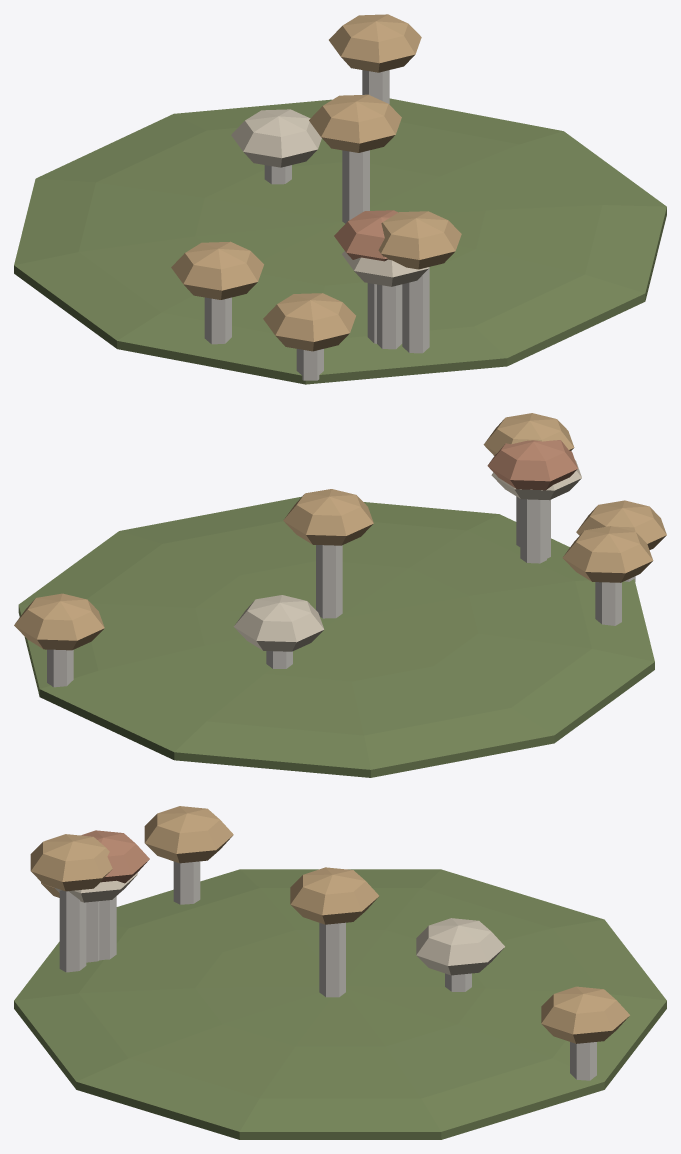
The model's file is Food_MushroomPatch.fbx.
The picture shows the model from 3 angles, top to bottom: view 1: azimuth 30°, elevation 25°; view 2: azimuth 150°, elevation 25°; view 3: azimuth 270°, elevation 25°; orthographic projection. The views are drawn at different scales.
Visible parts, largest first — view 1: Res_Food_MushroomPatch; view 2: Res_Food_MushroomPatch; view 3: Res_Food_MushroomPatch.
Part boxes in pixels (left/top/right/bottom): Res_Food_MushroomPatch: left=14, top=14, right=666, bottom=384; Res_Food_MushroomPatch: left=14, top=413, right=666, bottom=777; Res_Food_MushroomPatch: left=14, top=806, right=666, bottom=1139.
Bounding box in the file's own units: 0.9272 × 0.2532 × 0.9749.
